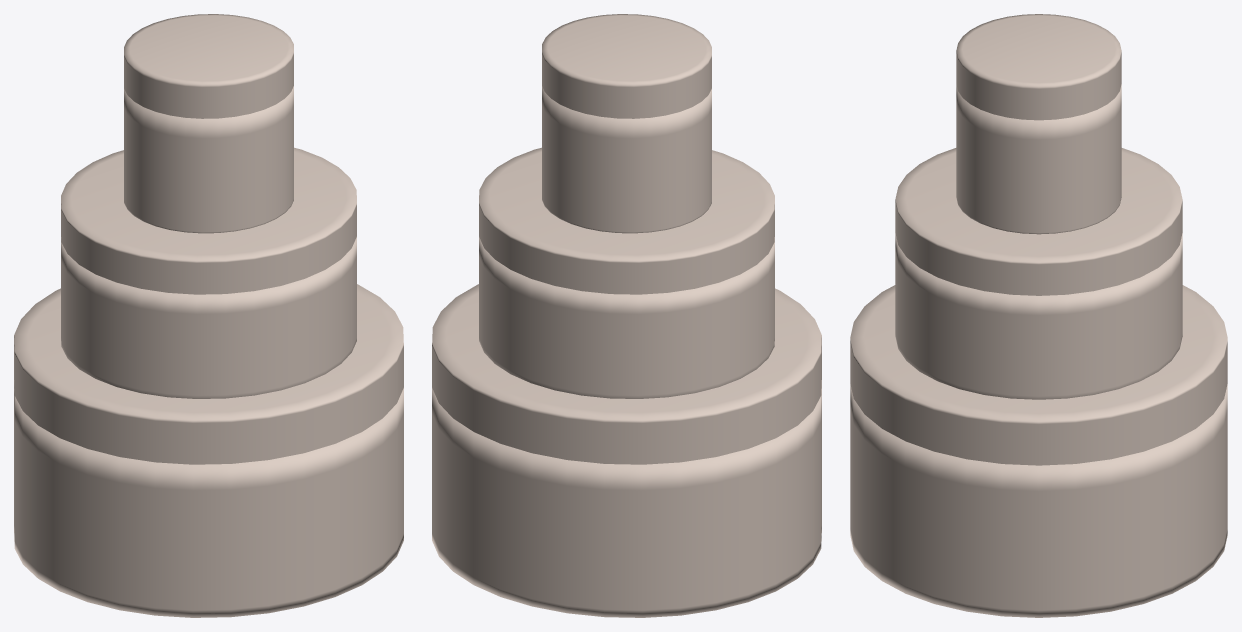
File: 3-tier-white-none-none.glb
3 renders of one model, left to right at view 1: azimuth 30°, elevation 25°; view 2: azimuth 150°, elevation 25°; view 3: azimuth 270°, elevation 25°, orthographic.
Parts seen in each view (by area): view 1: Cylinder.022, Cylinder.014, Cylinder.021; view 2: Cylinder.022, Cylinder.014, Cylinder.021; view 3: Cylinder.022, Cylinder.014, Cylinder.021.
Boxes of the visible parts, bbox=[...] form: Cylinder.022: bbox=[14, 284, 403, 617]; Cylinder.014: bbox=[61, 147, 356, 398]; Cylinder.021: bbox=[124, 14, 293, 233]; Cylinder.022: bbox=[432, 284, 821, 617]; Cylinder.014: bbox=[479, 147, 774, 398]; Cylinder.021: bbox=[542, 14, 711, 233]; Cylinder.022: bbox=[850, 285, 1227, 617]; Cylinder.014: bbox=[895, 148, 1182, 399]; Cylinder.021: bbox=[956, 14, 1121, 234].
Size of the model in its own units: 4.22 by 5.76 by 4.06.
